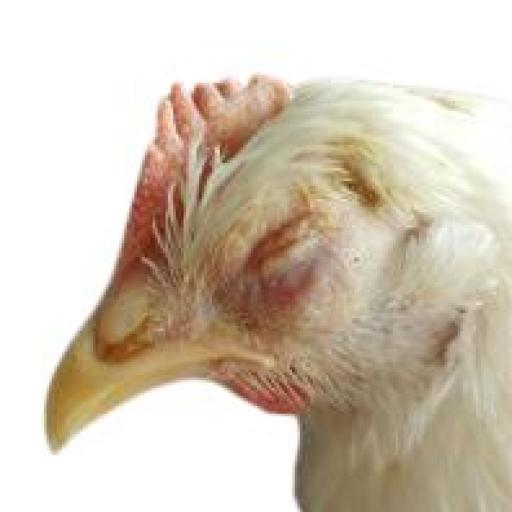disease: (220, 192, 366, 306), (158, 85, 243, 192)
